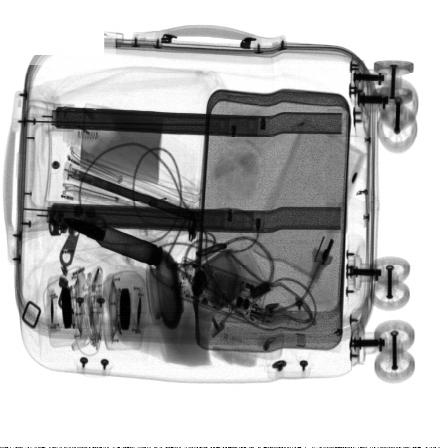Bullet: (61, 217, 163, 267)
